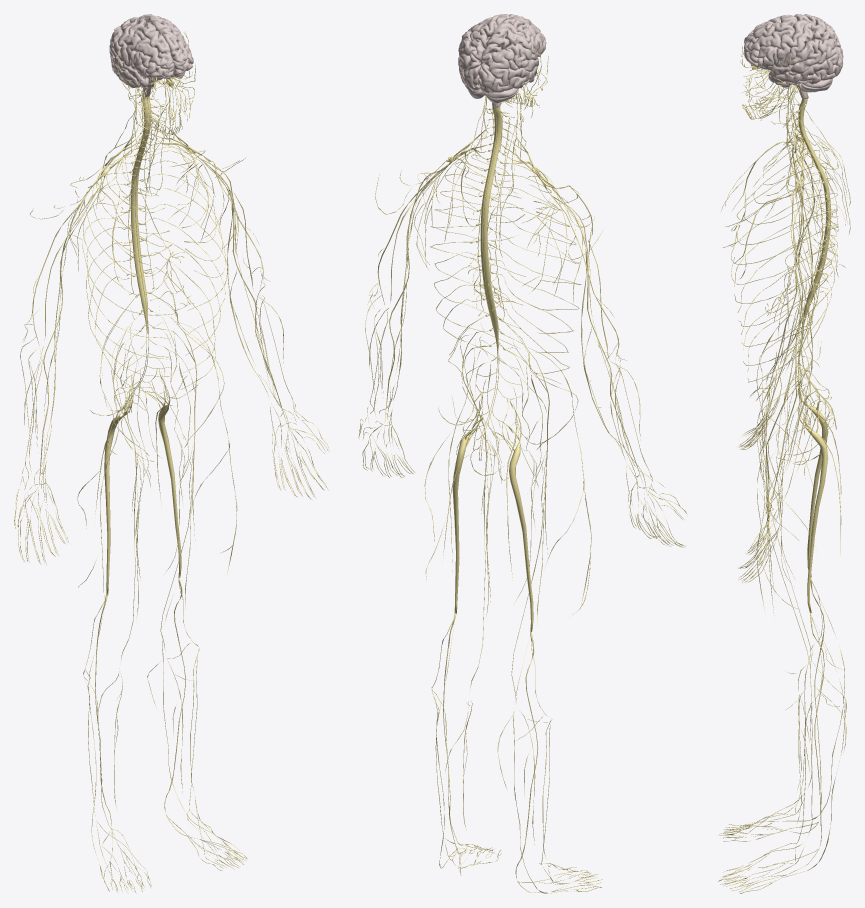
Rendered from nervous.glb.
The picture shows the model from 3 angles, left to right: view 1: azimuth 30°, elevation 25°; view 2: azimuth 150°, elevation 25°; view 3: azimuth 270°, elevation 25°; orthographic projection. The views are drawn at different scales.
Parts seen in each view (by area): view 1: nerves-of-left-lower-limb, nerves-of-right-lower-limb, nerves-of-right-upper-limb, brain, nerves-of-left-upper-limb, spinal-cord, intercostal-nerves-right, intercostal-nerves-left, cranial-nerves-right, cranial-nerves-left; view 2: nerves-of-right-lower-limb, brain, nerves-of-left-lower-limb, nerves-of-right-upper-limb, nerves-of-left-upper-limb, spinal-cord, intercostal-nerves-left, intercostal-nerves-right, cranial-nerves-right; view 3: nerves-of-left-lower-limb, brain, nerves-of-right-lower-limb, nerves-of-left-upper-limb, nerves-of-right-upper-limb, spinal-cord, intercostal-nerves-left, cranial-nerves-left, intercostal-nerves-right, cranial-nerves-right, sympathetic-trunk-left, sympathetic-trunk-right (+1 smaller).
Part boxes in pixels (x1,y1,x2,y2): nerves-of-left-lower-limb: [138, 293, 247, 870]; nerves-of-right-lower-limb: [77, 185, 154, 893]; nerves-of-right-upper-limb: [14, 120, 166, 564]; brain: [109, 14, 193, 88]; nerves-of-left-upper-limb: [149, 115, 328, 499]; spinal-cord: [125, 96, 170, 413]; intercostal-nerves-right: [82, 148, 174, 393]; intercostal-nerves-left: [142, 144, 227, 389]; cranial-nerves-right: [96, 49, 193, 317]; cranial-nerves-left: [144, 31, 195, 195]; nerves-of-right-lower-limb: [488, 199, 602, 893]; brain: [458, 14, 546, 93]; nerves-of-left-lower-limb: [424, 316, 503, 875]; nerves-of-right-upper-limb: [500, 123, 686, 547]; nerves-of-left-upper-limb: [358, 119, 514, 477]; spinal-cord: [474, 106, 522, 460]; intercostal-nerves-left: [430, 154, 525, 369]; intercostal-nerves-right: [492, 163, 581, 373]; cranial-nerves-right: [468, 47, 548, 309]; nerves-of-left-lower-limb: [718, 305, 846, 893]; brain: [744, 14, 843, 87]; nerves-of-right-lower-limb: [718, 148, 846, 841]; nerves-of-left-upper-limb: [722, 119, 847, 583]; nerves-of-right-upper-limb: [721, 111, 847, 449]; spinal-cord: [798, 98, 836, 429]; intercostal-nerves-left: [731, 154, 838, 382]; cranial-nerves-left: [740, 54, 850, 234]; intercostal-nerves-right: [731, 140, 838, 371]; cranial-nerves-right: [740, 46, 850, 321]; sympathetic-trunk-left: [786, 116, 838, 305]; sympathetic-trunk-right: [786, 112, 838, 293].
Bounding box in the file's own units: 0.6671 × 1.69 × 0.2424.
